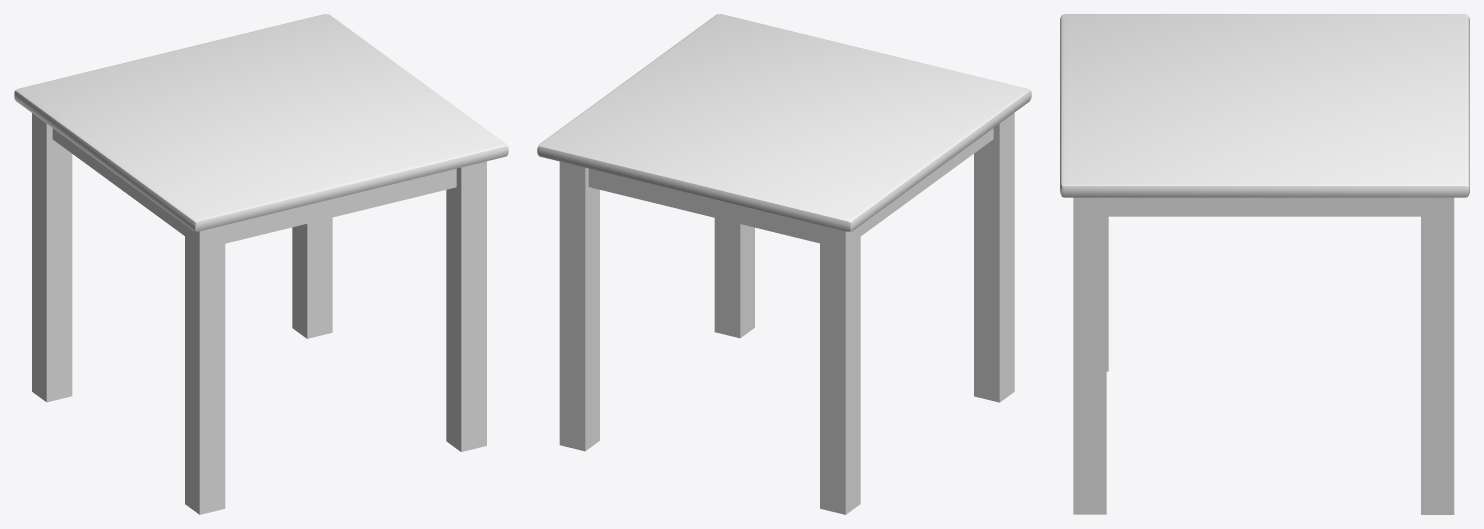
Rendered from Table 1.FBX.
3 views of the same model, side by side, from view 1: azimuth 30°, elevation 25°; view 2: azimuth 150°, elevation 25°; view 3: azimuth 270°, elevation 25° (orthographic). The views are drawn at different scales.
Visible parts, largest first — view 1: table; view 2: table; view 3: table.
Part boxes in pixels (bbox=[...]): table: bbox=[14, 14, 508, 514]; table: bbox=[537, 14, 1031, 514]; table: bbox=[1060, 14, 1469, 514].
Bounding box in the file's own units: 80 × 73.01 × 80.
Materials: 1 (1 with a texture image).
